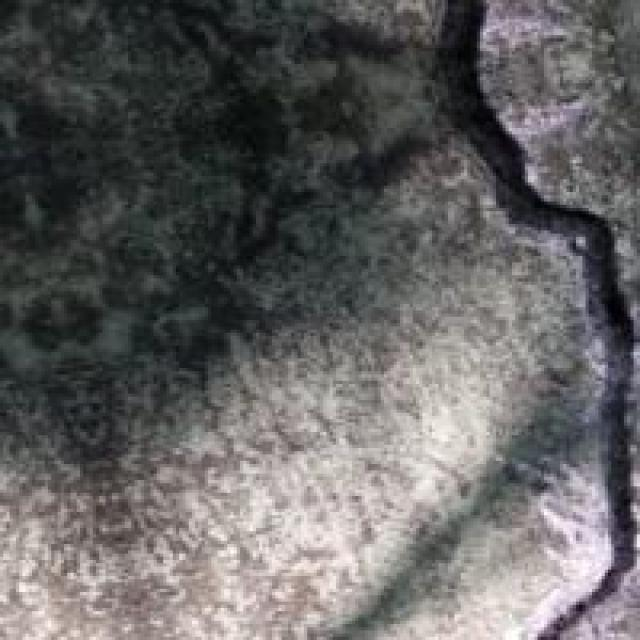crack: (413, 3, 637, 637)
